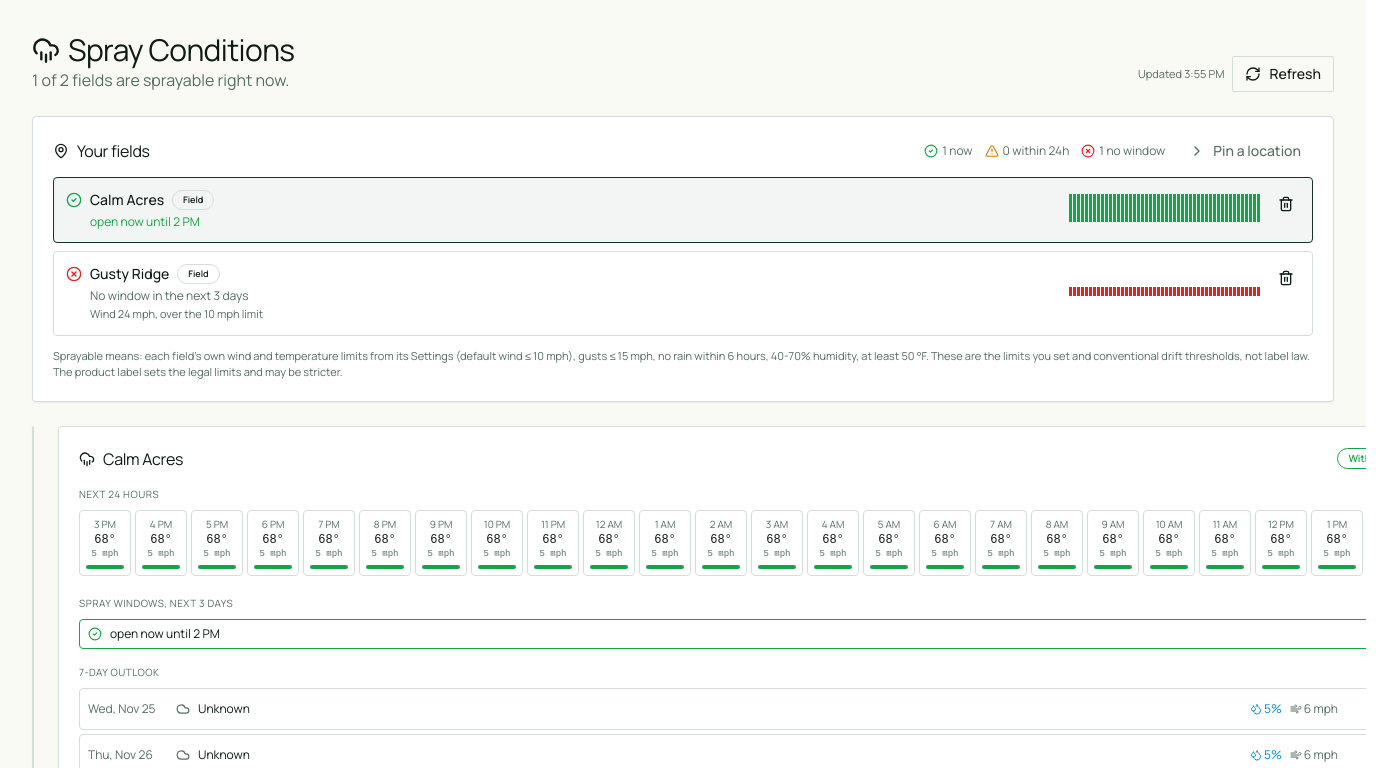
Test: the radar › still lets someone pin a location by hand
Click the button "Pin a location".
click(1245, 151)  # box [1177,137,1313,165]
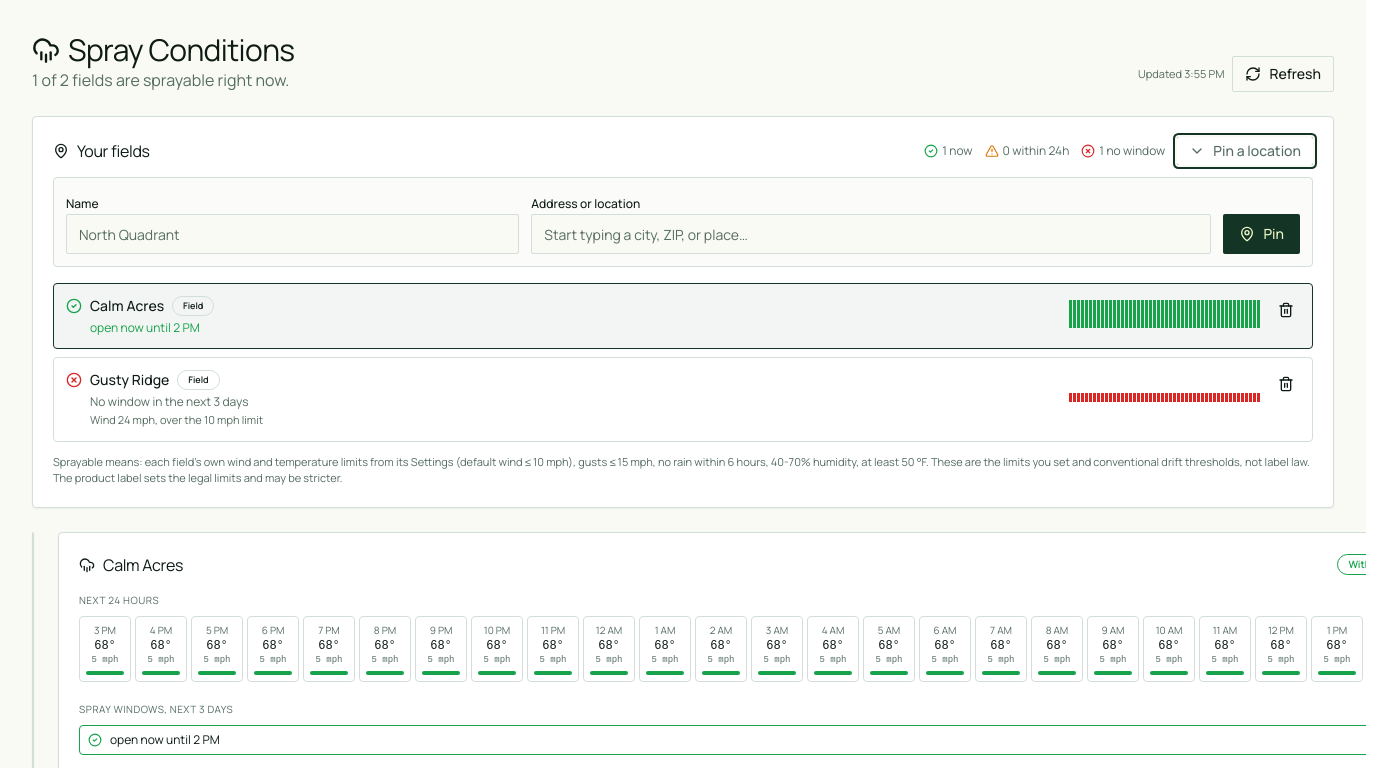
Expected: the field with placeholder "North Quadrant" is shown, [66,214,519,254]
